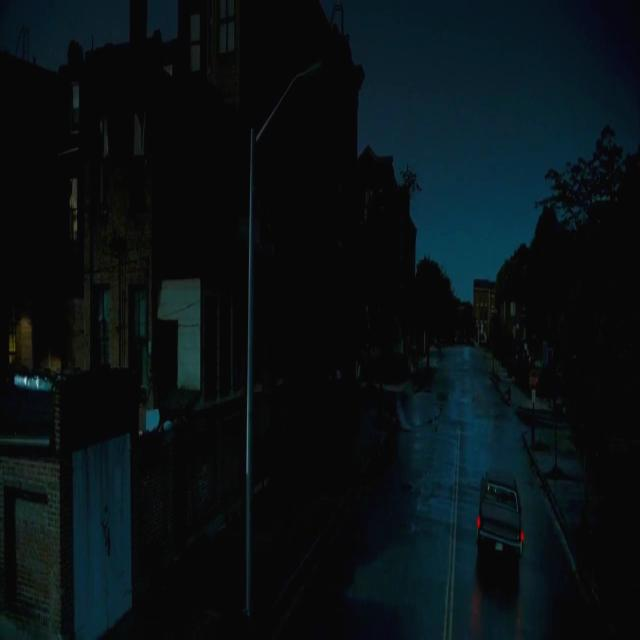Car: (476, 463, 523, 579)
